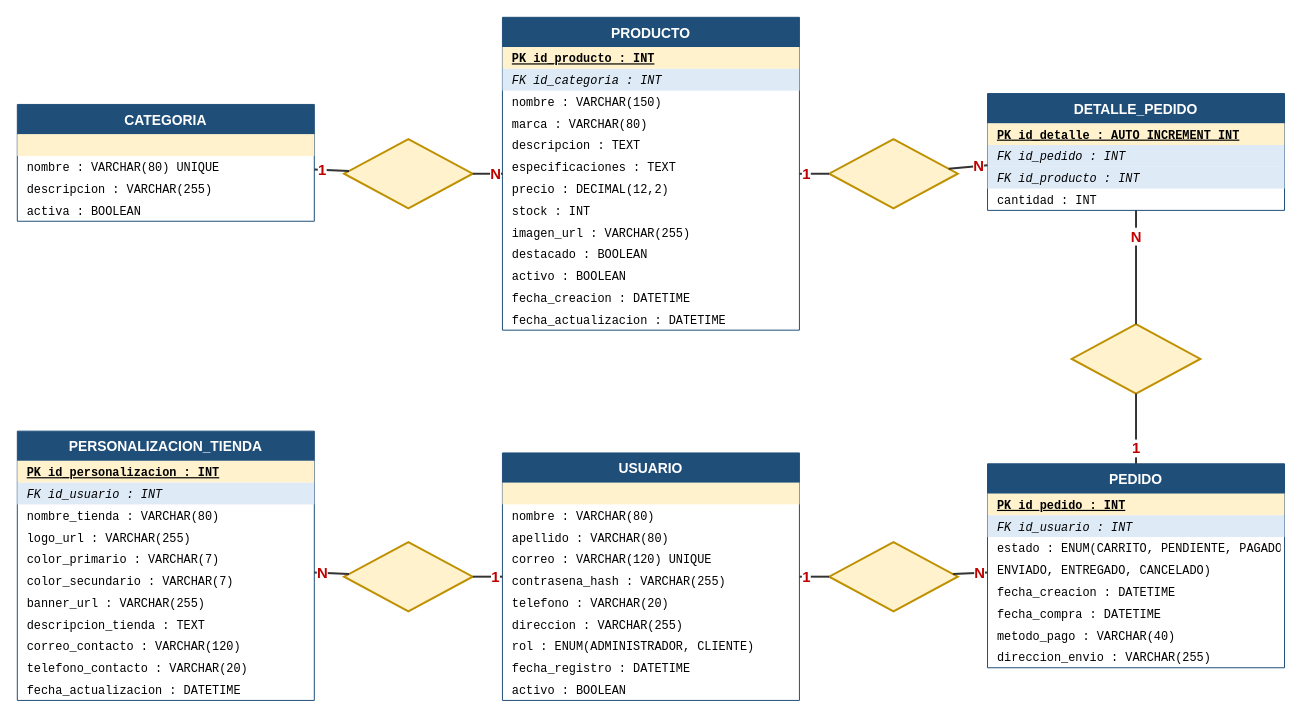
This 1306x718 diagram has some shape labels left out. The centre of each missing label's shape, as x and y in pixels:
"aparece en" belongs at (893,173).
"clasifica" belongs at (408,173).
"configura" belongs at (408,576).
"contiene" belongs at (1135,358).
"PK id_categoria : INT" belongs at (165,144).
"PK id_usuario : INT" belongs at (650,493).
"realiza" belongs at (893,576).
